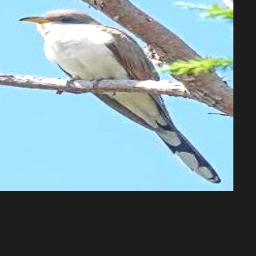Cuckoo: (17, 9, 221, 183)
